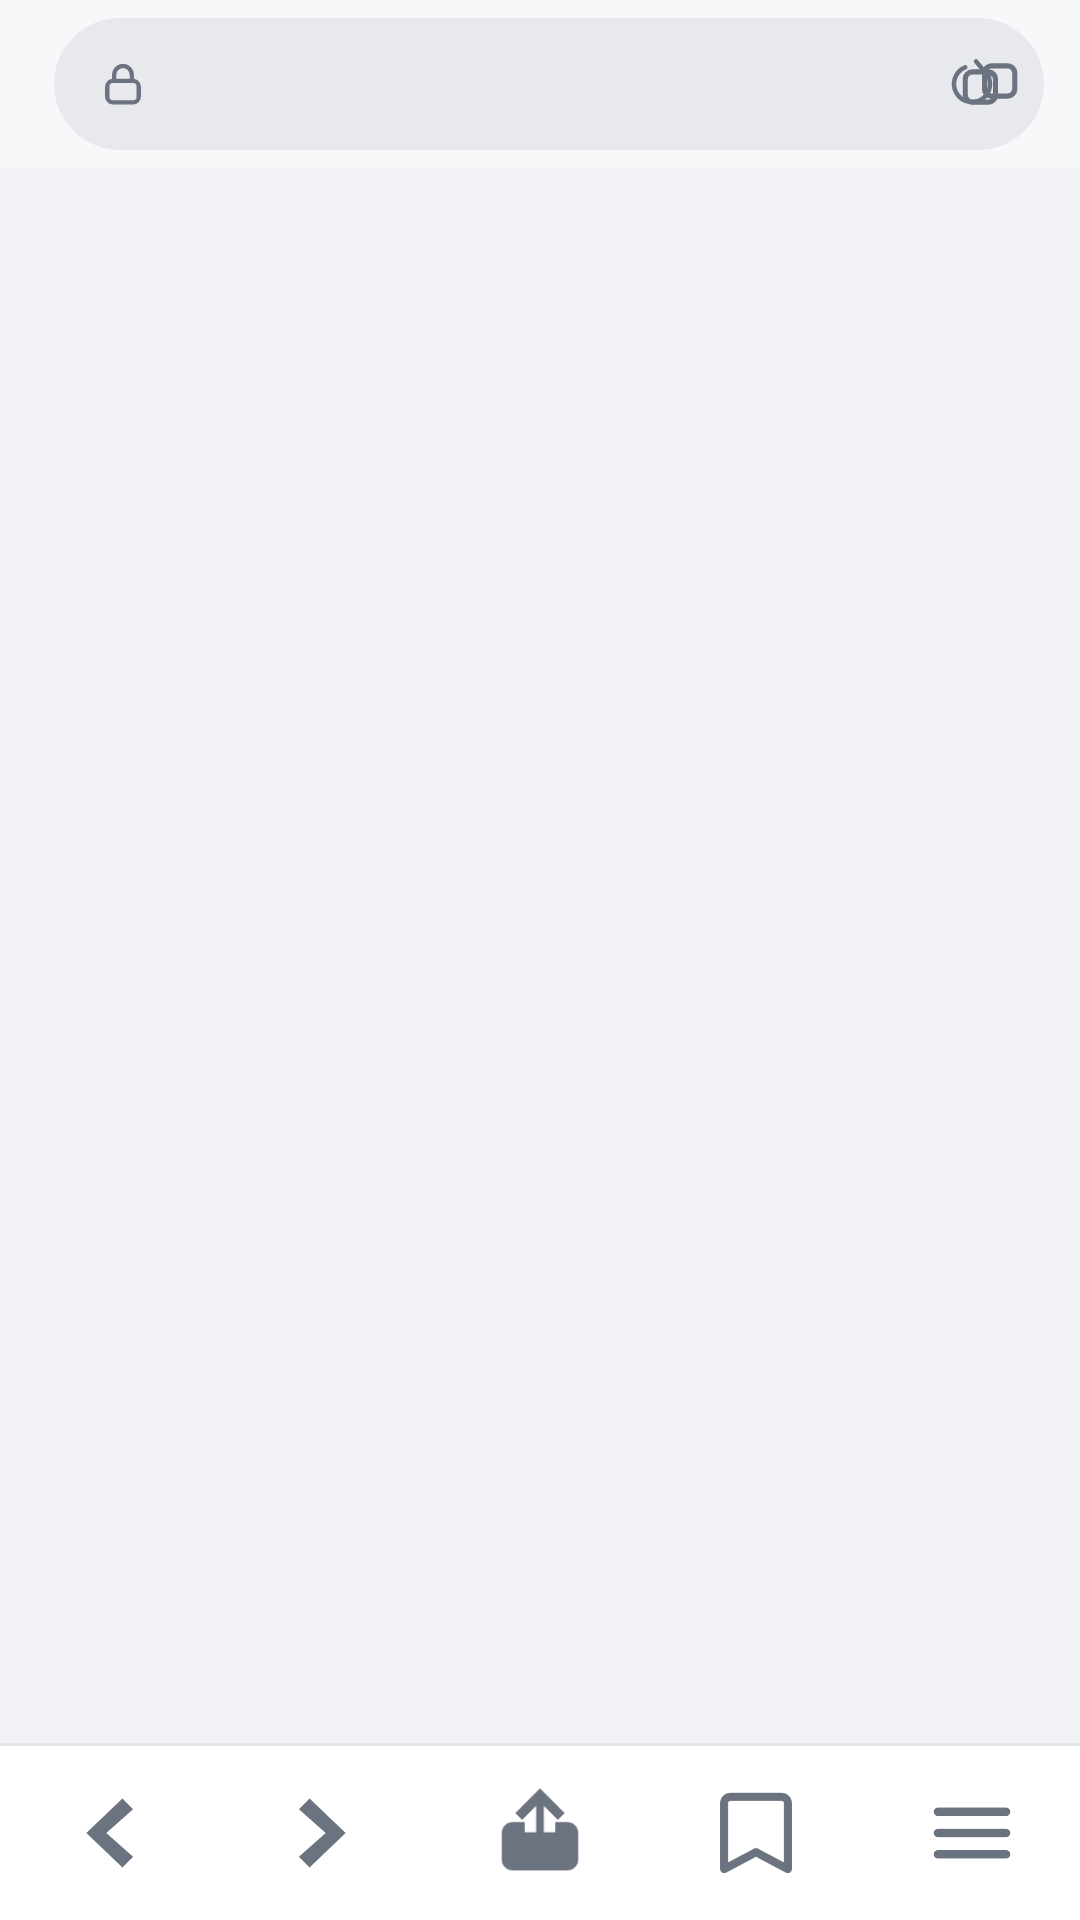

Where to tap for icons on this 1080px x 1920px app screen, as (x,y):
Back: (109,1833)
Bookmarks: (756,1832)
Forward: (322,1833)
Menu: (972,1833)
Secure: (123,84)
Share: (540,1829)
